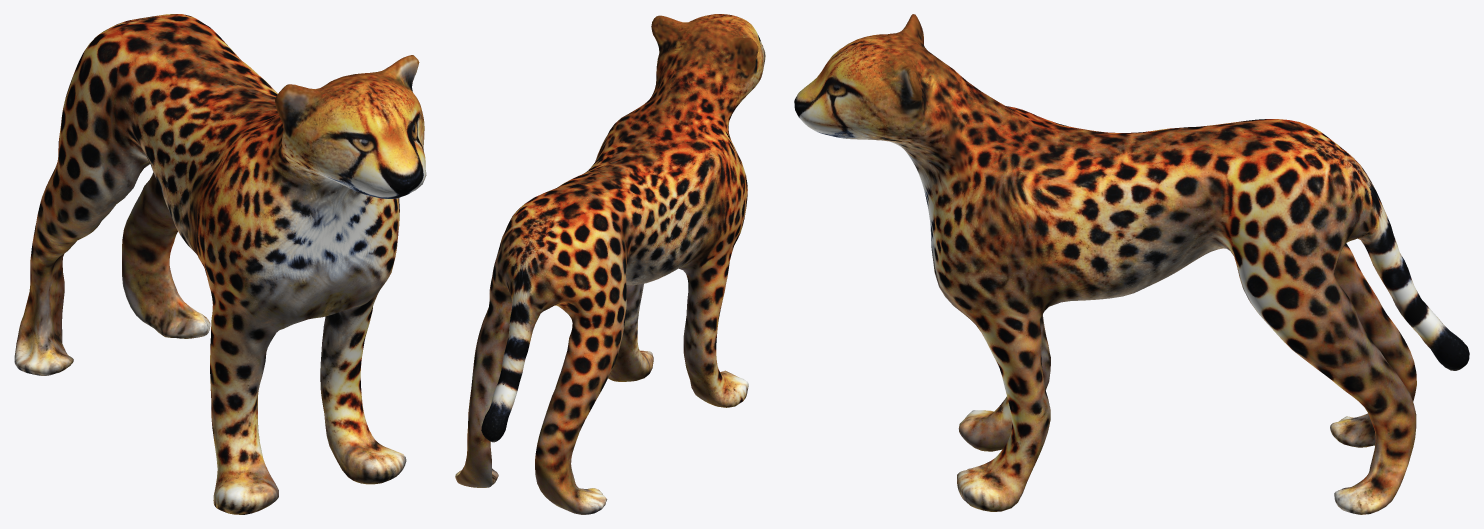
Rendered from uploads_files_5014719_Cheetah_Quad.obj.
The picture shows the model from 3 angles, left to right: view 1: azimuth 30°, elevation 25°; view 2: azimuth 150°, elevation 25°; view 3: azimuth 270°, elevation 25°; orthographic projection. The views are drawn at different scales.
Visible parts, largest first — view 1: Cheetah_Quad; view 2: Cheetah_Quad; view 3: Cheetah_Quad.
Boxes of the visible parts, <box> form: Cheetah_Quad: <box>14,14,426,514</box>; Cheetah_Quad: <box>455,14,765,514</box>; Cheetah_Quad: <box>794,14,1469,514</box>.
Bounding box in the file's own units: 0.4254 × 0.9602 × 1.36.
